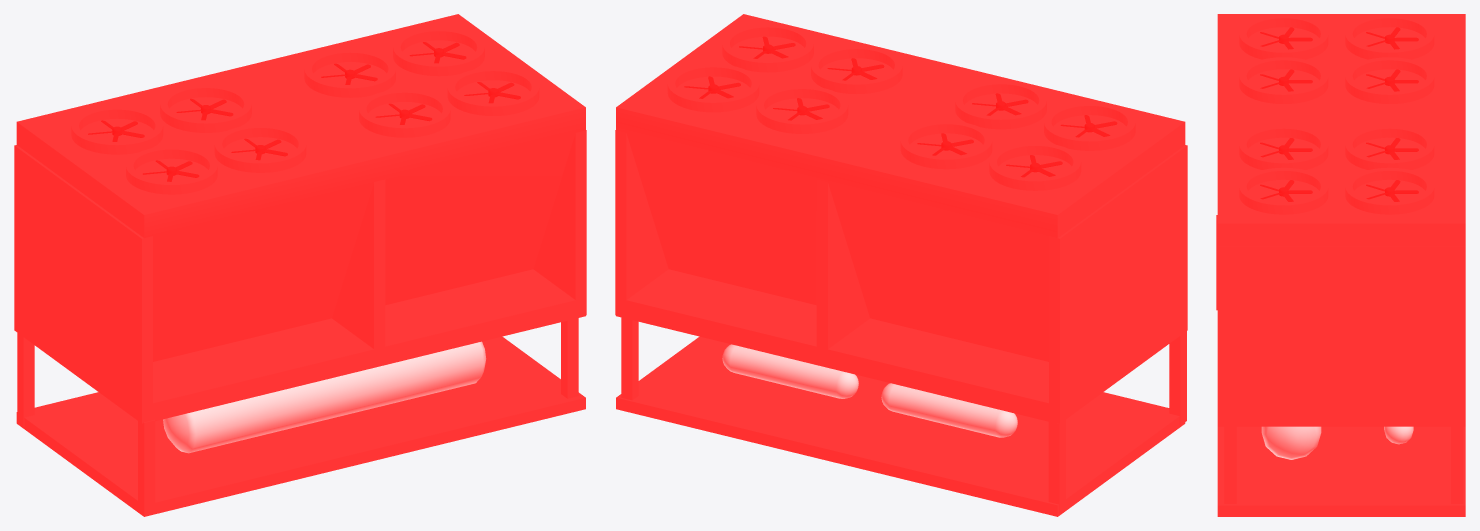
File: air_cool_chiller1.glb
The picture shows the model from 3 angles, left to right: view 1: azimuth 30°, elevation 25°; view 2: azimuth 150°, elevation 25°; view 3: azimuth 270°, elevation 25°; orthographic projection. The views are drawn at different scales.
Parts seen in each view (by area): view 1: main, Oil_Tank, fans_8, fans_6, fans_7, fans_4, fans_1, fans_3, fans_5, fans_2; view 2: main, Oil_Tank_1, Oil_Tank_2, fans_2, fans_7, fans_5, fans_1, fans_3, fans_6, fans_8, fans_4; view 3: main, fans_2, fans_1, fans_5, fans_6, fans_7, fans_8, fans_4, fans_3, Oil_Tank, Oil_Tank_1.
Part boxes in pixels (x1=…): main: x1=14, y1=14, x2=586, y2=516; Oil_Tank: x1=163, y1=341, x2=486, y2=453; fans_8: x1=126, y1=146, x2=217, y2=194; fans_6: x1=214, y1=124, x2=306, y2=172; fans_7: x1=71, y1=106, x2=163, y2=154; fans_4: x1=359, y1=89, x2=450, y2=137; fans_1: x1=447, y1=68, x2=539, y2=115; fans_3: x1=304, y1=49, x2=395, y2=97; fans_5: x1=160, y1=84, x2=251, y2=132; fans_2: x1=393, y1=28, x2=484, y2=76; main: x1=615, y1=14, x2=1187, y2=516; Oil_Tank_1: x1=722, y1=344, x2=858, y2=398; Oil_Tank_2: x1=881, y1=383, x2=1017, y2=437; fans_2: x1=667, y1=64, x2=759, y2=112; fans_7: x1=989, y1=142, x2=1081, y2=190; fans_5: x1=900, y1=121, x2=992, y2=169; fans_1: x1=722, y1=24, x2=813, y2=72; fans_3: x1=756, y1=85, x2=848, y2=133; fans_6: x1=955, y1=81, x2=1046, y2=129; fans_8: x1=1044, y1=102, x2=1135, y2=150; fans_4: x1=811, y1=46, x2=902, y2=93; main: x1=1216, y1=14, x2=1465, y2=516; fans_2: x1=1345, y1=167, x2=1434, y2=214; fans_1: x1=1239, y1=167, x2=1328, y2=214; fans_5: x1=1345, y1=57, x2=1434, y2=103; fans_6: x1=1239, y1=57, x2=1328, y2=103; fans_7: x1=1345, y1=15, x2=1434, y2=59; fans_8: x1=1239, y1=15, x2=1328, y2=59; fans_4: x1=1239, y1=125, x2=1328, y2=169; fans_3: x1=1345, y1=125, x2=1434, y2=169; Oil_Tank: x1=1261, y1=426, x2=1321, y2=459; Oil_Tank_1: x1=1384, y1=426, x2=1413, y2=444.
Size of the model in its own units: 201 by 135 by 101.
